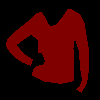felpa: (5, 8, 88, 92)
